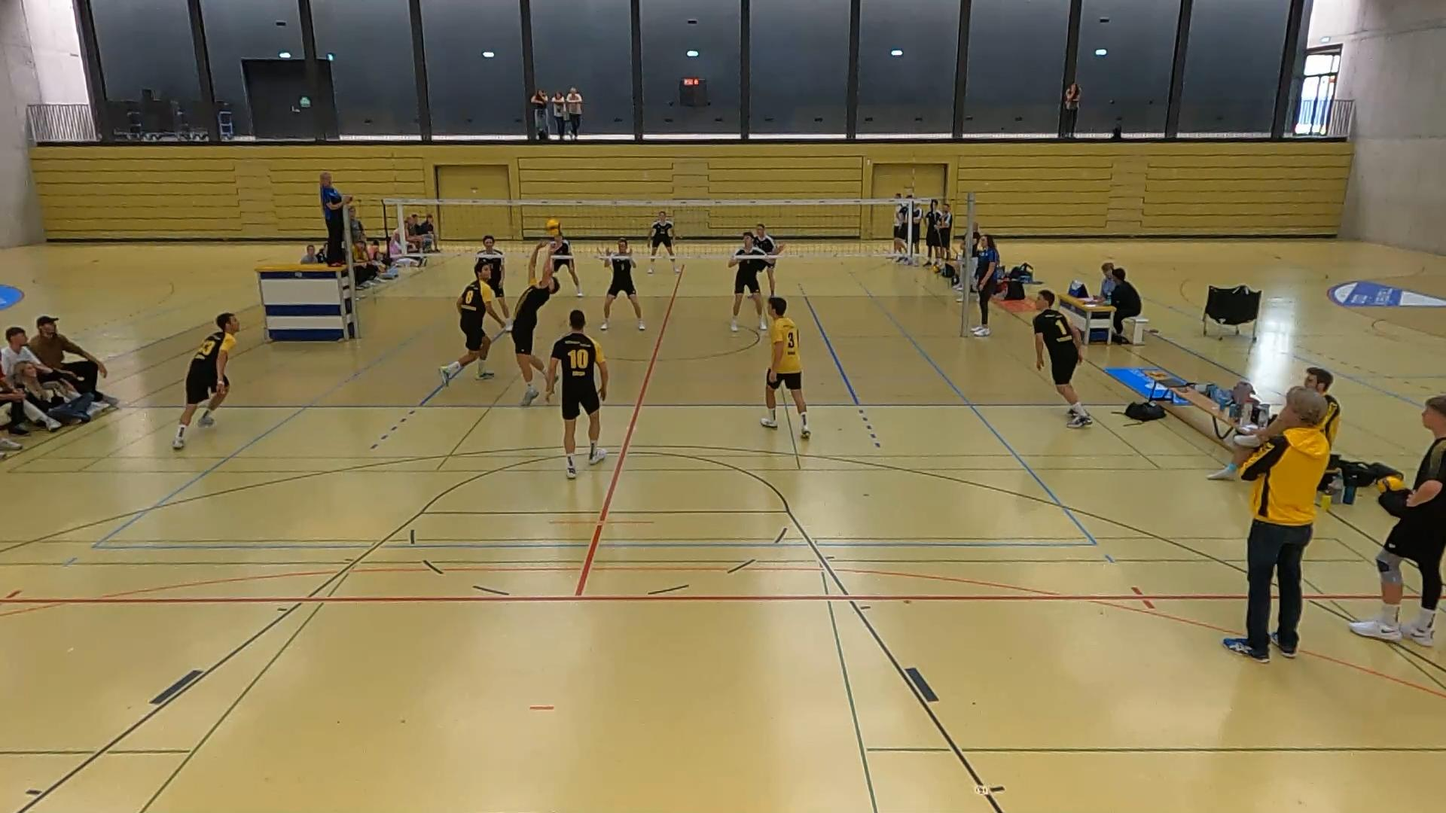Player: (547, 309, 608, 478), (172, 312, 239, 449), (1033, 290, 1092, 428), (440, 260, 502, 385), (761, 297, 810, 438), (599, 238, 645, 330), (728, 231, 767, 331), (476, 236, 511, 330), (548, 230, 584, 297), (755, 224, 785, 296), (648, 211, 678, 273)
Set: (508, 237, 563, 409)
ball: (544, 216, 562, 241)
